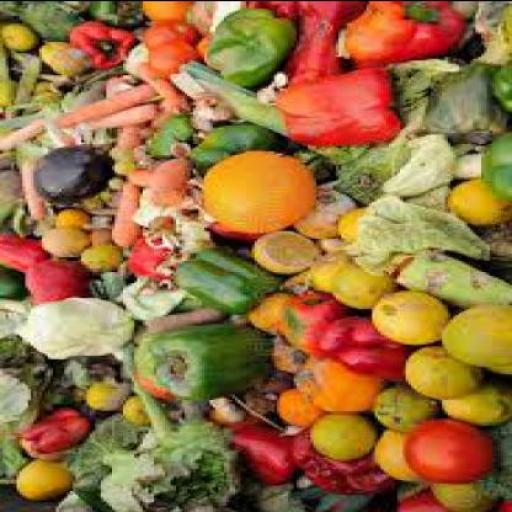biodegradable: (0, 1, 511, 511), (95, 347, 236, 511), (325, 57, 459, 195), (335, 195, 487, 276), (128, 322, 274, 399), (238, 2, 364, 85), (274, 66, 398, 146), (199, 152, 311, 234), (335, 2, 467, 68), (334, 135, 462, 202), (196, 8, 294, 88), (168, 246, 276, 316), (185, 59, 283, 135), (11, 299, 126, 362), (420, 67, 509, 148), (392, 255, 510, 311), (288, 432, 389, 497), (131, 192, 207, 272), (313, 317, 406, 382), (104, 346, 170, 436), (403, 419, 492, 484), (290, 354, 386, 414), (0, 330, 53, 428), (433, 305, 510, 371), (30, 145, 110, 206), (221, 420, 293, 486), (400, 345, 481, 401), (185, 122, 268, 176), (53, 86, 156, 128), (369, 293, 448, 347), (282, 294, 346, 360), (36, 356, 112, 406), (436, 378, 509, 426), (364, 384, 436, 432), (324, 265, 397, 312), (467, 423, 509, 503), (114, 274, 184, 322), (16, 408, 86, 455), (245, 232, 322, 274), (308, 414, 372, 464), (440, 182, 510, 227), (68, 22, 134, 69), (11, 2, 87, 42), (288, 190, 350, 238), (123, 233, 174, 289), (20, 262, 86, 304), (0, 54, 42, 117), (11, 458, 68, 503), (137, 66, 190, 114), (372, 430, 419, 484), (243, 289, 294, 336), (459, 2, 510, 46), (478, 132, 509, 204), (470, 17, 510, 68), (143, 39, 193, 78), (274, 386, 316, 432), (109, 186, 140, 248), (143, 310, 226, 332), (81, 105, 154, 130), (148, 158, 186, 206), (428, 484, 496, 510), (251, 479, 305, 511), (14, 146, 36, 223), (146, 117, 188, 157), (185, 2, 235, 34), (305, 254, 347, 291), (0, 238, 42, 274), (394, 484, 452, 510), (137, 22, 193, 48), (472, 226, 510, 264), (36, 228, 81, 260), (81, 380, 126, 412), (268, 332, 303, 373), (282, 149, 324, 183), (188, 98, 230, 132), (0, 169, 22, 232), (482, 62, 509, 113), (0, 119, 42, 151), (48, 46, 92, 76), (86, 2, 140, 26), (134, 2, 191, 24), (0, 427, 22, 484), (76, 242, 115, 274), (333, 208, 370, 241), (0, 20, 37, 52), (28, 78, 62, 110), (240, 390, 274, 422), (249, 368, 288, 394), (274, 275, 311, 302), (206, 397, 244, 423), (0, 262, 26, 300), (302, 143, 358, 160), (0, 204, 28, 238), (100, 76, 138, 100), (47, 490, 90, 511), (0, 53, 15, 112), (50, 210, 84, 236), (16, 441, 58, 462), (33, 71, 73, 93), (118, 395, 145, 427), (305, 233, 339, 258), (36, 41, 70, 65), (448, 152, 473, 180), (118, 47, 142, 74), (109, 125, 140, 145), (165, 65, 185, 95), (0, 296, 26, 318), (44, 134, 79, 150), (81, 128, 112, 146), (0, 1, 26, 21), (252, 87, 277, 107), (84, 228, 109, 247), (448, 2, 473, 20), (126, 169, 151, 187), (275, 422, 299, 438), (107, 148, 126, 166), (482, 364, 509, 376), (81, 208, 112, 218), (0, 151, 15, 170), (84, 216, 112, 226), (168, 141, 184, 158), (90, 189, 106, 206), (101, 178, 121, 191), (266, 74, 285, 87), (112, 163, 132, 174), (78, 199, 98, 210), (490, 501, 511, 511), (294, 479, 302, 490)
